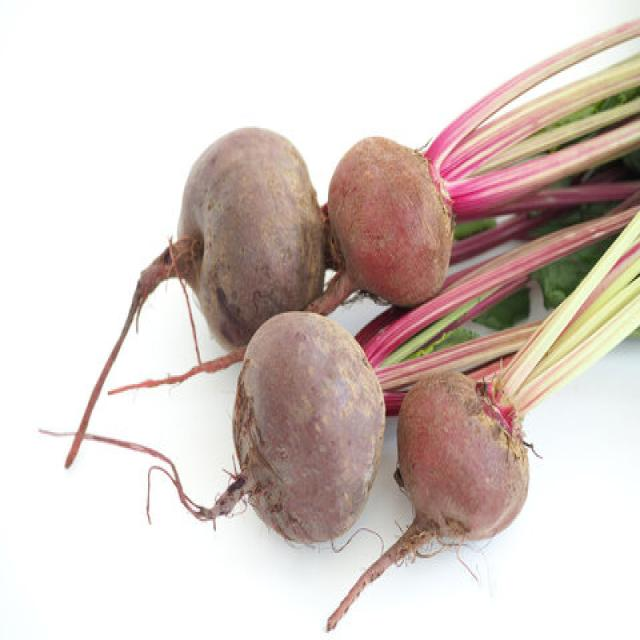Beetroot: (167, 111, 329, 347), (221, 308, 387, 524), (304, 130, 466, 318), (399, 366, 537, 546)
